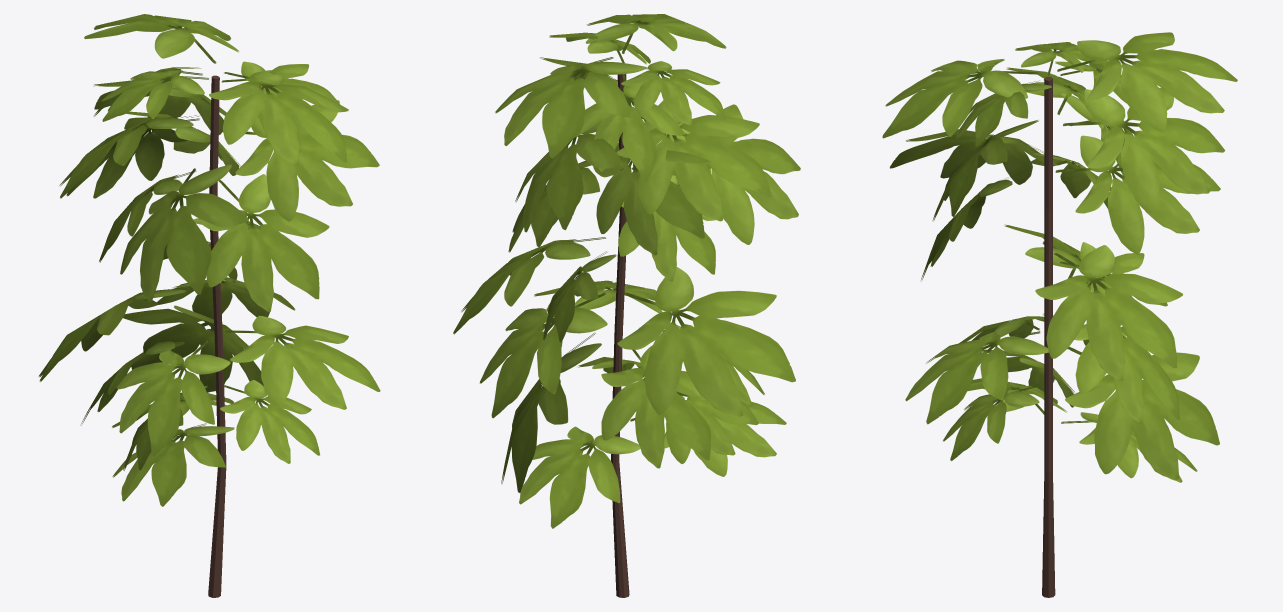
File: Umbrella Plant.glb
The picture shows the model from 3 angles, left to right: view 1: azimuth 30°, elevation 25°; view 2: azimuth 150°, elevation 25°; view 3: azimuth 270°, elevation 25°; orthographic projection. The views are drawn at different scales.
Parts seen in each view (by area): view 1: Umbrella Plant; view 2: Umbrella Plant; view 3: Umbrella Plant.
Part boxes in pixels (box(x1,y1,x2,y2)): Umbrella Plant: box(38, 14, 380, 597); Umbrella Plant: box(453, 14, 800, 597); Umbrella Plant: box(882, 32, 1237, 597).
Size of the model in its own units: 0.3318 by 0.5278 by 0.3655.
Materials: 2 (1 with a texture image).
